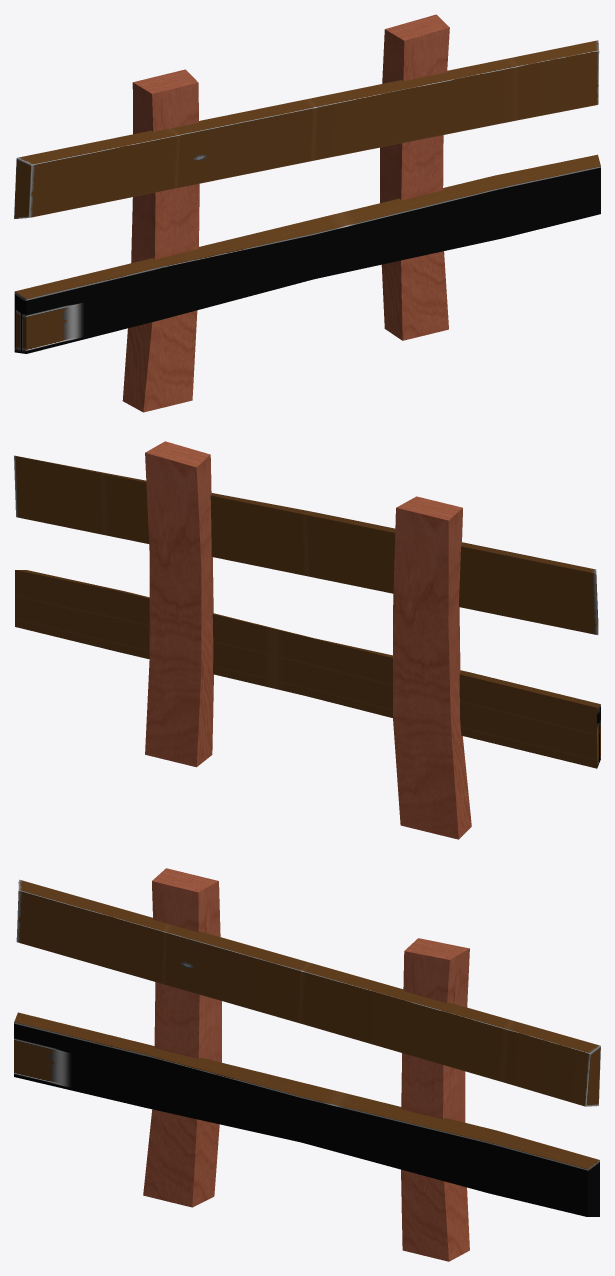
File: fence_001.fbx
The picture shows the model from 3 angles, top to bottom: view 1: azimuth 30°, elevation 25°; view 2: azimuth 150°, elevation 25°; view 3: azimuth 330°, elevation 25°; orthographic projection.
Visible parts, largest first — view 1: pasted__pCube1, pCube1, pasted__pCube2, pCube2; view 2: pasted__pCube1, pCube1, pasted__pCube2, pCube2; view 3: pasted__pCube1, pCube1, pasted__pCube2, pCube2.
Boxes of the visible parts, bbox=[...] form: pasted__pCube1: bbox=[14, 40, 599, 219]; pCube1: bbox=[14, 154, 600, 353]; pasted__pCube2: bbox=[122, 69, 199, 412]; pCube2: bbox=[380, 14, 449, 340]; pasted__pCube1: bbox=[14, 455, 598, 635]; pCube1: bbox=[15, 570, 600, 768]; pasted__pCube2: bbox=[393, 496, 471, 839]; pCube2: bbox=[145, 441, 213, 767]; pasted__pCube1: bbox=[16, 879, 600, 1106]; pCube1: bbox=[14, 1012, 599, 1216]; pasted__pCube2: bbox=[143, 868, 221, 1207]; pCube2: bbox=[401, 938, 469, 1261].
Size of the model in its own units: 10.03 by 5.19 by 0.7007.
